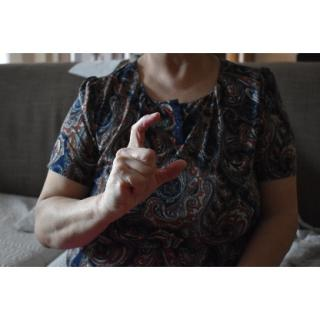DELL: (103, 107, 191, 215)
